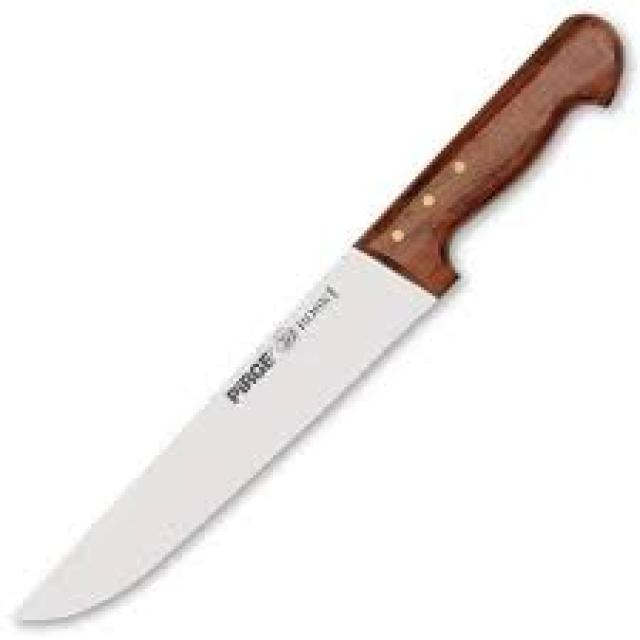Knife: (17, 14, 623, 620)
